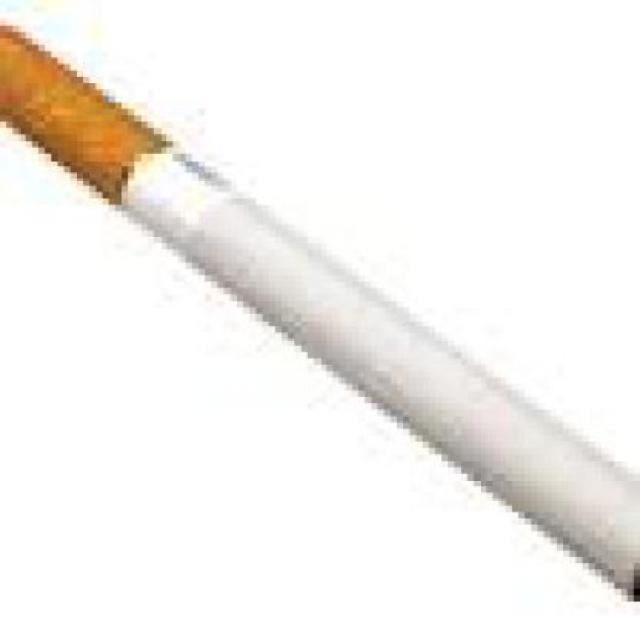cigarette: (6, 25, 634, 621)
